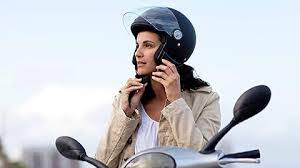helmets: (122, 5, 196, 66)
